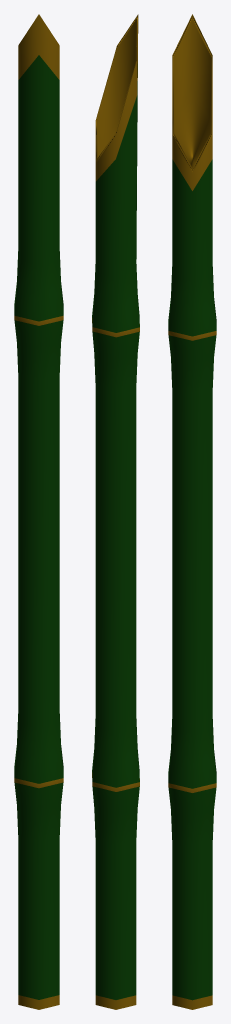
Rendered from BambooCutBv1.fbx.
The picture shows the model from 3 angles, left to right: view 1: azimuth 90°, elevation 25°; view 2: azimuth 210°, elevation 25°; view 3: azimuth 270°, elevation 25°; orthographic projection. The views are drawn at different scales.
Parts seen in each view (by area): view 1: BambooE.005; view 2: BambooE.005; view 3: BambooE.005.
Boxes of the visible parts, x1=… form: BambooE.005: x1=14, y1=14, x2=63, y2=1009; BambooE.005: x1=92, y1=14, x2=139, y2=1009; BambooE.005: x1=168, y1=14, x2=216, y2=1009.
Bounding box in the file's own units: 10.85 × 215 × 9.62.
